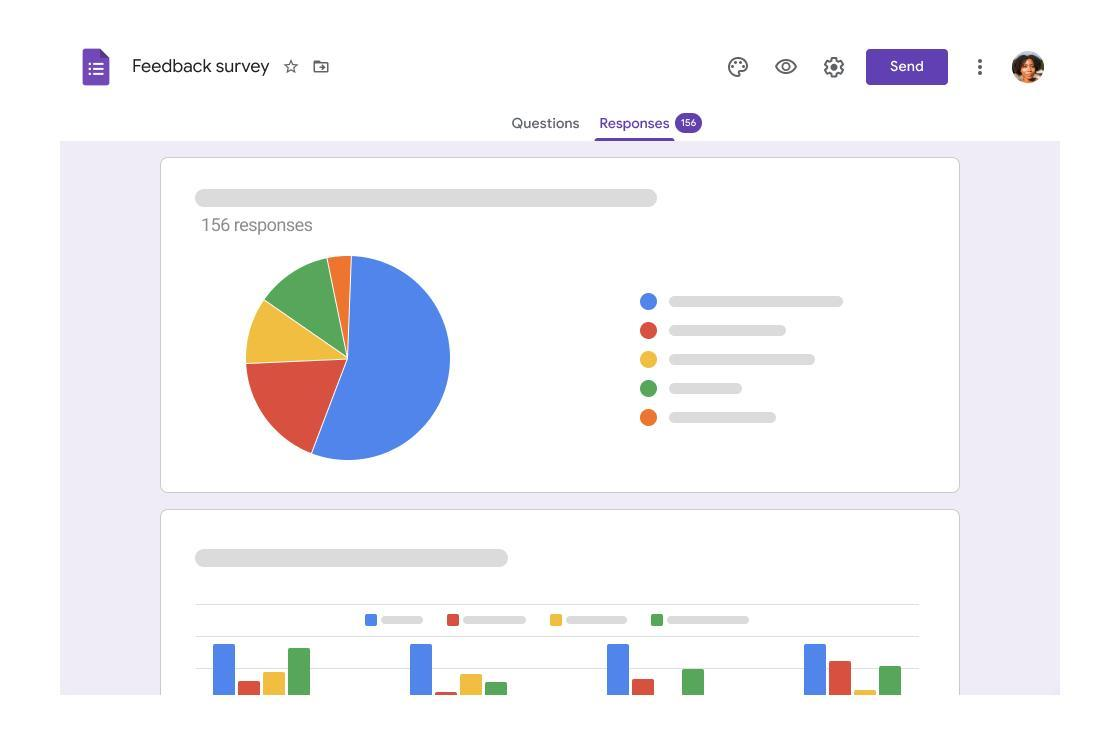button: (867, 51, 951, 86)
icon: (820, 55, 849, 81), (727, 55, 751, 80), (311, 57, 337, 80), (775, 58, 800, 77), (283, 57, 301, 79), (974, 57, 987, 82)
label: (130, 55, 272, 79), (200, 211, 317, 237), (507, 117, 584, 134), (597, 117, 673, 133)
